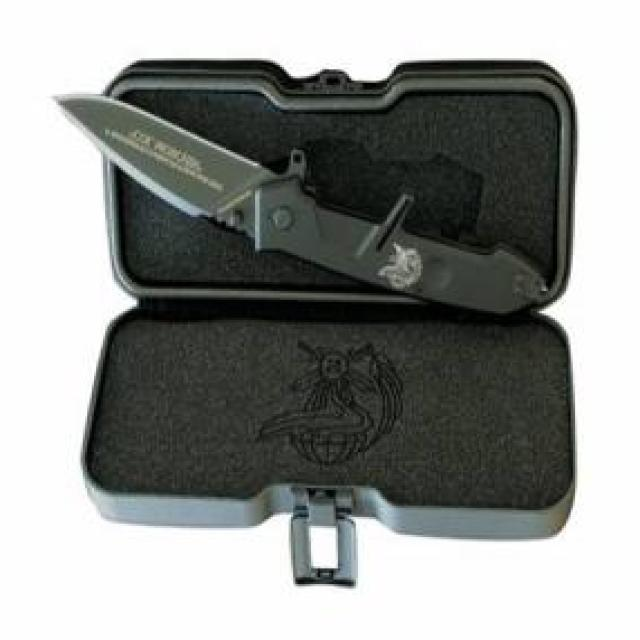knife: (41, 93, 314, 257)
